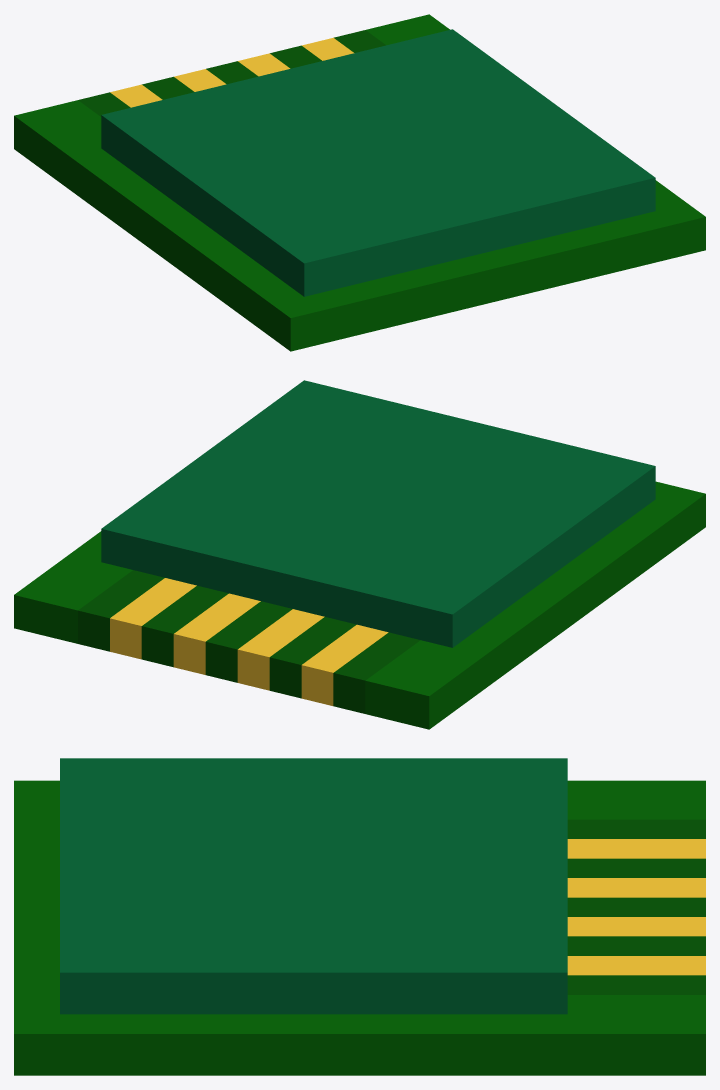
Rendered from closed-circuit-2.gltf.
3 views of the same model, one above another, from view 1: azimuth 30°, elevation 25°; view 2: azimuth 150°, elevation 25°; view 3: azimuth 270°, elevation 25° (orthographic). The views are drawn at different scales.
Visible parts, largest first — view 1: Node; view 2: Node; view 3: Node.
Boxes of the visible parts, bbox=[...] form: Node: bbox=[14, 14, 705, 351]; Node: bbox=[14, 380, 705, 729]; Node: bbox=[14, 758, 705, 1075].
Size of the model in its own units: 1.3 by 0.2 by 1.5.
1 material, 1 textured.
